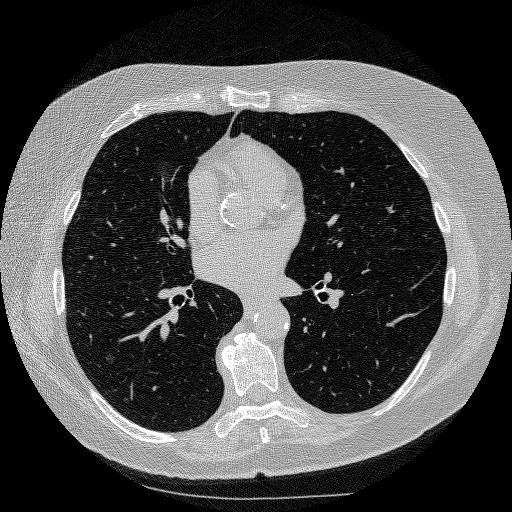nodule: (103, 352, 116, 365)
